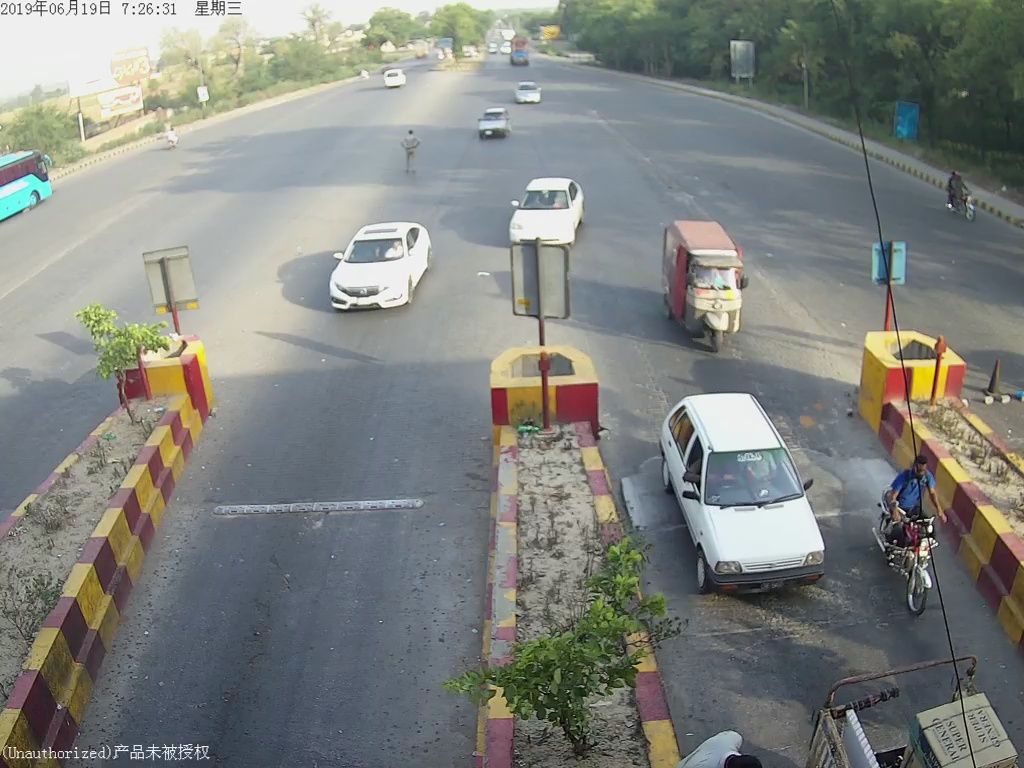Cat-1: (664, 395, 841, 603), (324, 216, 434, 316), (507, 169, 583, 240)
